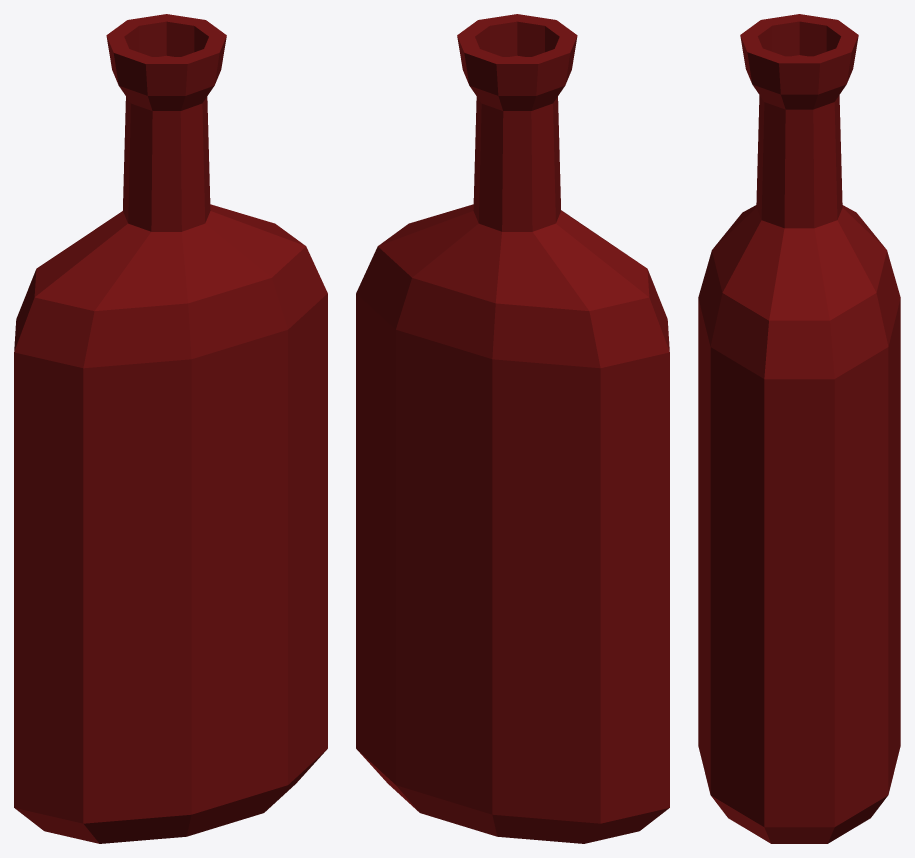
The model's file is bottle_4.fbx.
The picture shows the model from 3 angles, left to right: view 1: azimuth 30°, elevation 25°; view 2: azimuth 150°, elevation 25°; view 3: azimuth 270°, elevation 25°; orthographic projection.
Visible parts, largest first — view 1: bottle_2; view 2: bottle_2; view 3: bottle_2.
Part boxes in pixels (x1,y1,x2,y2): bottle_2: (14,14,327,843); bottle_2: (356,14,669,843); bottle_2: (698,14,900,843).
Size of the model in its own units: 0.2868 by 0.7053 by 0.1726.
